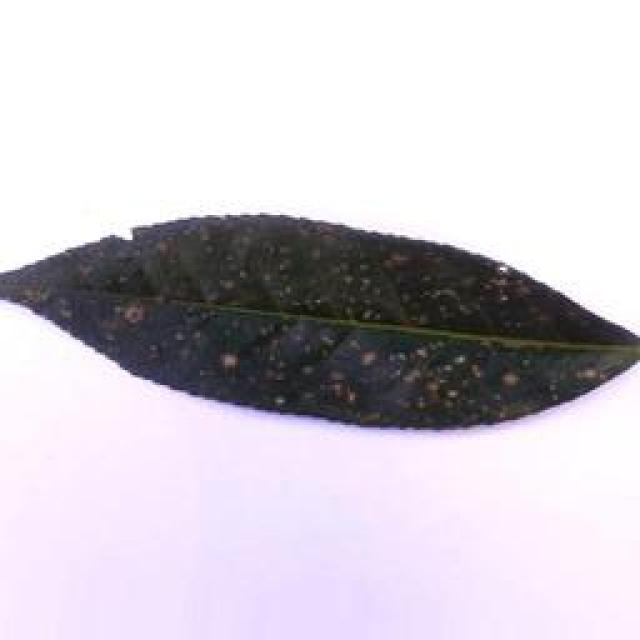Algal Leaf Spot: (2, 208, 640, 441)
